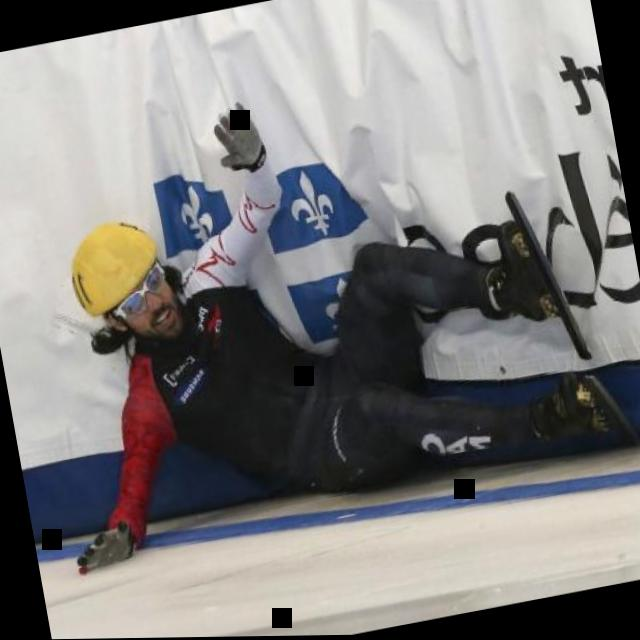Fall-Detected: (30, 3, 640, 581)
